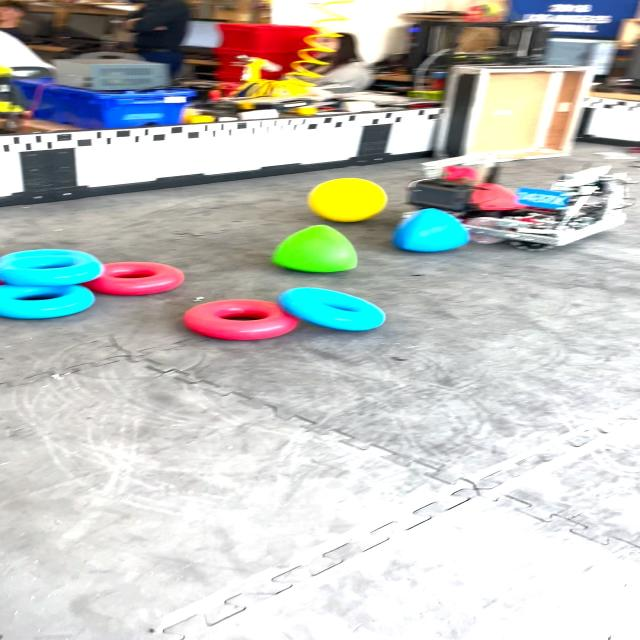Blue-Ring: (278, 288, 384, 331), (0, 249, 104, 286), (0, 285, 96, 319)
Red-Ring: (184, 299, 298, 340), (82, 261, 184, 295)
